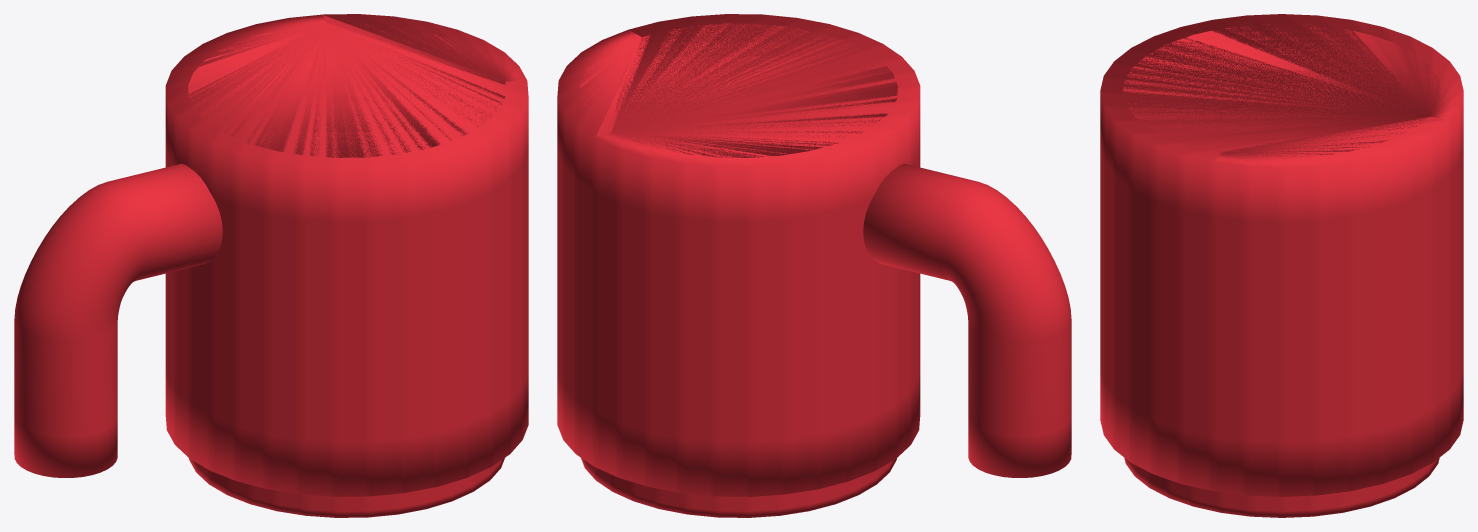
File: Mug.fbx
3 renders of one model, left to right at view 1: azimuth 30°, elevation 25°; view 2: azimuth 150°, elevation 25°; view 3: azimuth 270°, elevation 25°, orthographic.
Visible parts, largest first — view 1: Cylinder.002; view 2: Cylinder.002; view 3: Cylinder.002.
Part boxes in pixels (bbox=[...]): Cylinder.002: bbox=[14, 14, 528, 517]; Cylinder.002: bbox=[557, 14, 1071, 517]; Cylinder.002: bbox=[1100, 14, 1463, 517].
Bounding box in the file's own units: 495 × 352 × 322.
